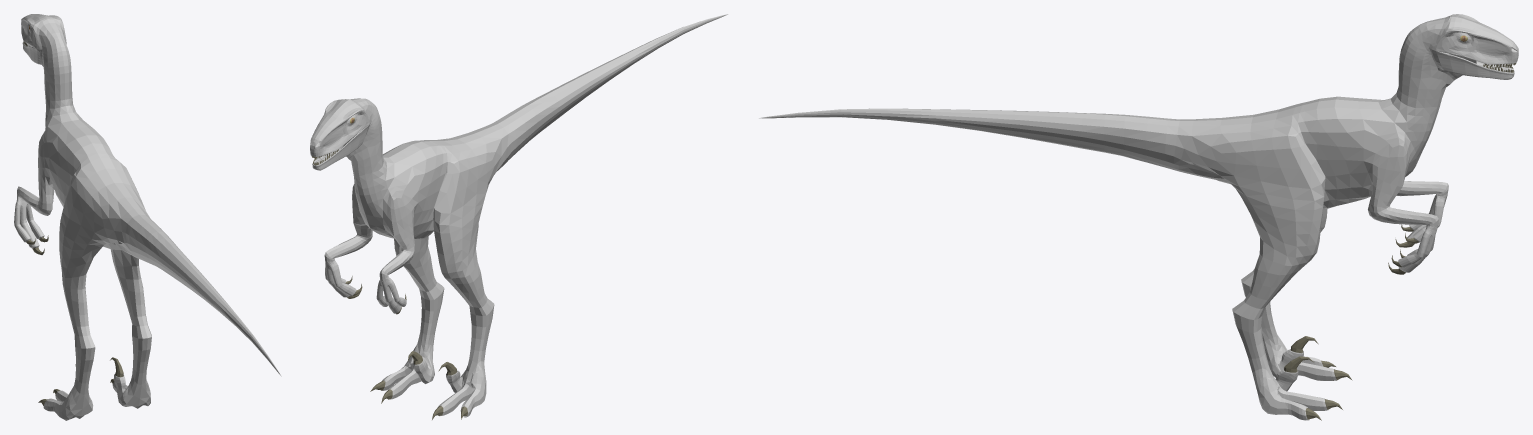
Rendered from dino.gltf.
3 views of the same model, side by side, from view 1: azimuth 30°, elevation 25°; view 2: azimuth 150°, elevation 25°; view 3: azimuth 270°, elevation 25° (orthographic). The views are drawn at different scales.
Bounding box in the file's own units: 19.9 × 61.98 × 110.
